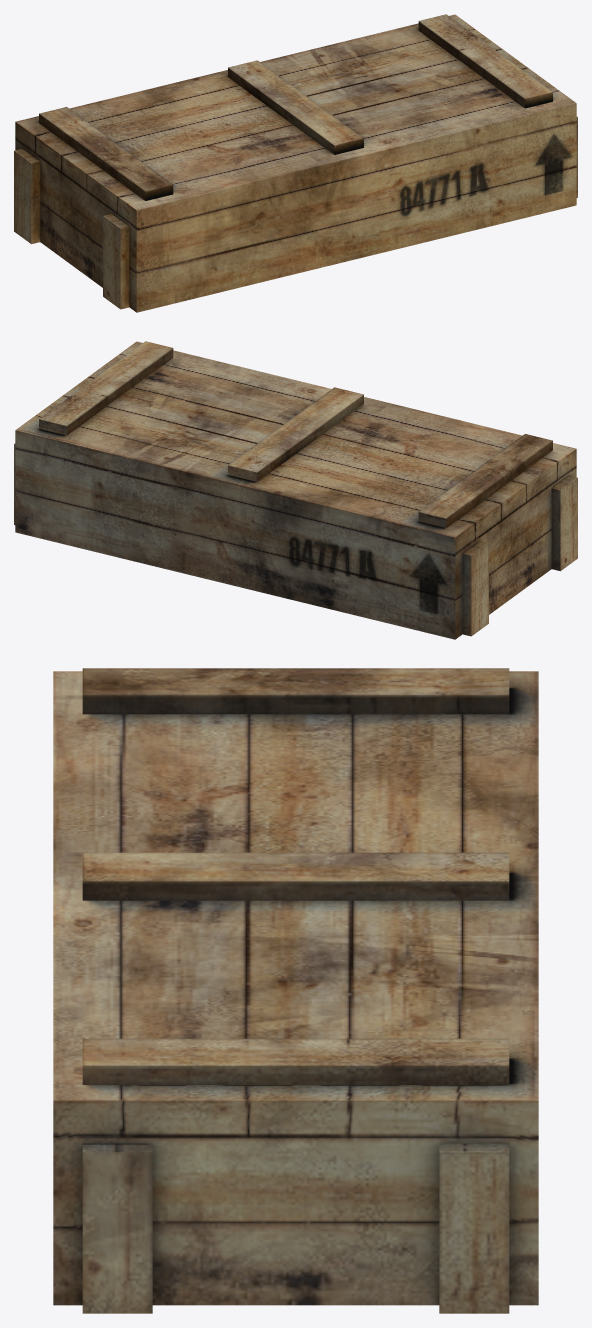
Rendered from MediumTank_Gear_Crate_01.FBX.
3 views of the same model, one above another, from view 1: azimuth 30°, elevation 25°; view 2: azimuth 150°, elevation 25°; view 3: azimuth 270°, elevation 25° (orthographic). The views are drawn at different scales.
Parts seen in each view (by area): view 1: MediumTank_Gear_Crate_01; view 2: MediumTank_Gear_Crate_01; view 3: MediumTank_Gear_Crate_01.
Boxes of the visible parts, x1,y1,x2,y2 form: MediumTank_Gear_Crate_01: (14,14,577,312); MediumTank_Gear_Crate_01: (14,341,577,639); MediumTank_Gear_Crate_01: (53,668,538,1313).
Size of the model in its own units: 1.22 by 0.2846 by 0.5598.
